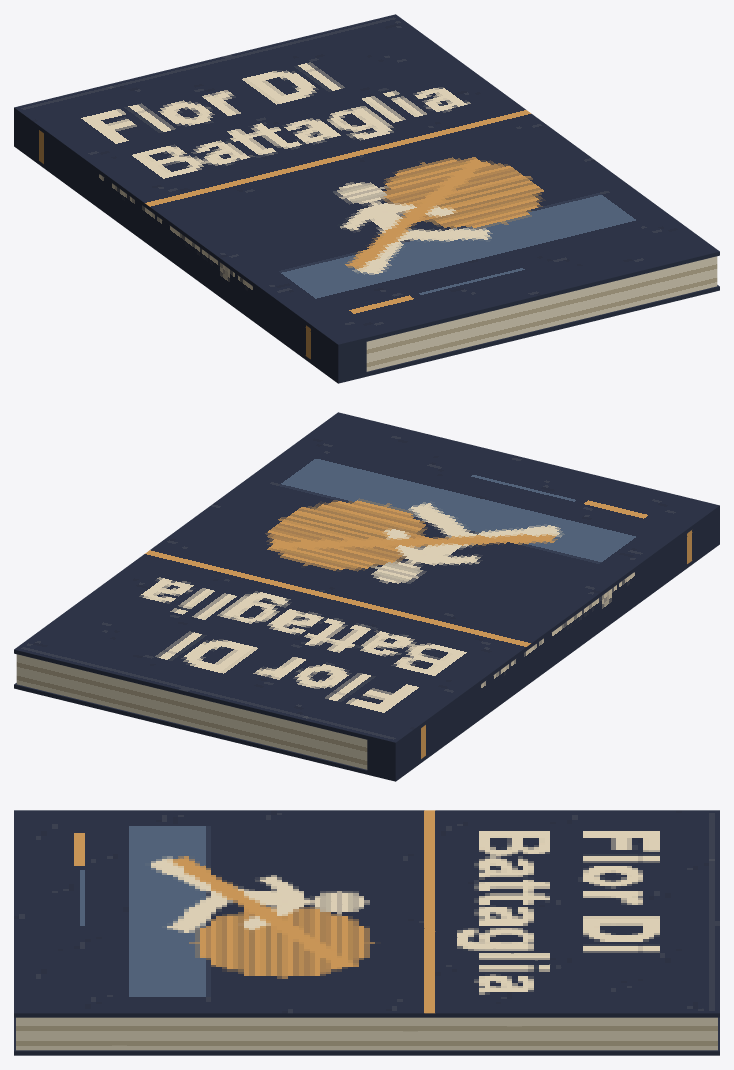
Rendered from manual_medievalpole.glb.
3 renders of one model, top to bottom at view 1: azimuth 30°, elevation 25°; view 2: azimuth 150°, elevation 25°; view 3: azimuth 270°, elevation 25°, orthographic. The views are drawn at different scales.
Parts seen in each view (by area): view 1: block_front cover, block_spine, block_page block, block_back cover; view 2: block_front cover, block_spine, block_page block, block_back cover; view 3: block_front cover, block_page block, block_back cover.
Boxes of the visible parts, x1,y1,x2,y2 form: block_front cover: [14, 14, 719, 348]; block_spine: [14, 111, 366, 379]; block_page block: [366, 256, 717, 371]; block_back cover: [14, 142, 719, 383]; block_front cover: [14, 412, 719, 746]; block_spine: [367, 509, 719, 777]; block_page block: [16, 654, 367, 769]; block_back cover: [14, 540, 719, 781]; block_front cover: [14, 810, 719, 1017]; block_page block: [16, 1017, 717, 1050]; block_back cover: [14, 1017, 719, 1055].
Bounding box in the file's own units: 0.1204 × 0.0117 × 0.177.
Materials: 1 (1 with a texture image).
